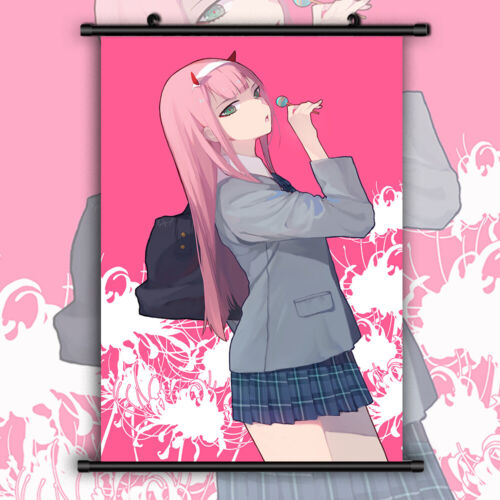zeroTwo: (152, 43, 288, 145)
